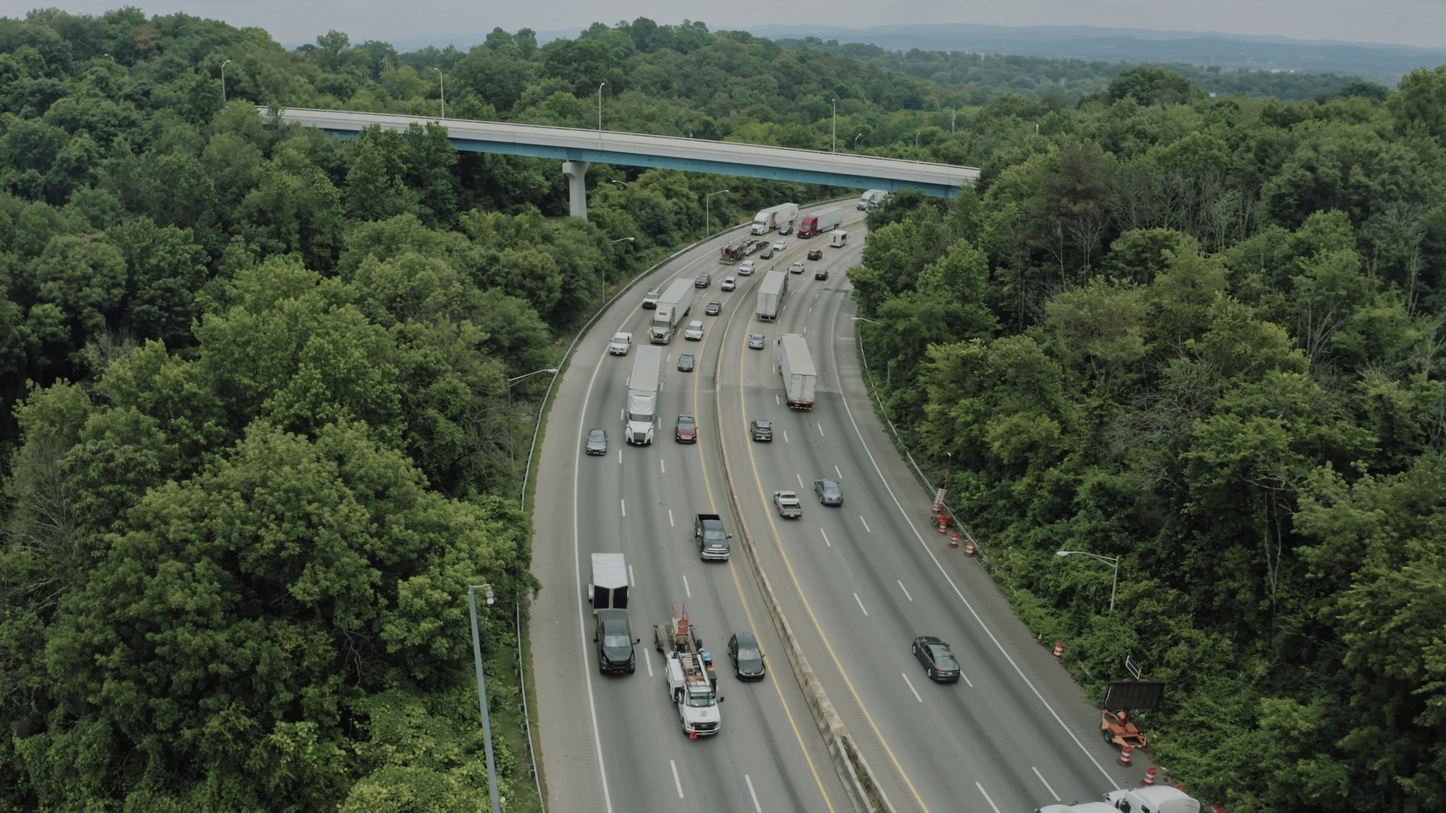Vehicle: (650, 607, 721, 749), (593, 609, 640, 676), (1110, 784, 1201, 813), (912, 636, 961, 683), (624, 386, 659, 446), (624, 385, 659, 445), (727, 632, 766, 682), (694, 514, 732, 562), (1037, 788, 1106, 813), (755, 270, 788, 322), (775, 331, 811, 367), (649, 302, 676, 344), (813, 478, 844, 506), (773, 491, 803, 519), (674, 413, 698, 444), (585, 429, 608, 456), (750, 208, 773, 235), (719, 243, 746, 265), (750, 420, 773, 442), (799, 215, 820, 239), (642, 286, 662, 309), (609, 332, 627, 356), (685, 320, 705, 341), (857, 189, 875, 212), (828, 230, 849, 248), (677, 353, 695, 372), (738, 259, 756, 276), (748, 334, 766, 349), (721, 276, 737, 292), (705, 301, 722, 316), (695, 273, 711, 288), (790, 262, 805, 274), (807, 249, 822, 261), (778, 225, 793, 236), (815, 270, 829, 281), (760, 248, 774, 259), (773, 240, 787, 251)
